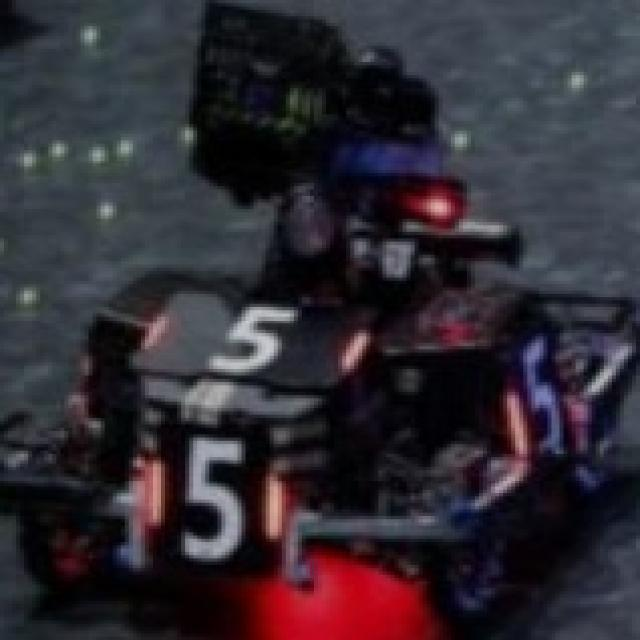R5: (145, 434, 290, 568)
